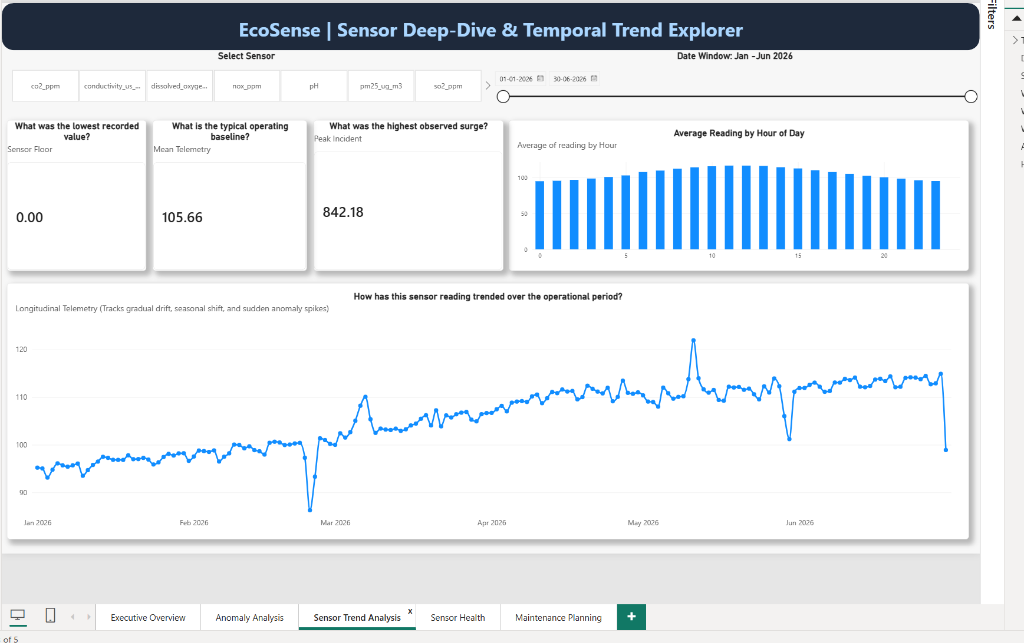

The page's visual inventory and layout, read from the dashboard file:
{"tool":"powerbi","page":{"name":"Sensor Trend Analysis","canvas":[1920,1080],"ordinal":2},"visuals":[{"type":"lineChart","title":"How has this sensor reading trended over the operational period?","fields":{"Category":["SensorReadings.Reading Date.Variation.Date Hierarchy.Year"],"Y":["Avg(SensorReadings.reading)"]},"box":[10.4,550.1,1888.7,503.1],"z":0},{"type":"clusteredColumnChart","title":"Average Reading by Hour of  Day","fields":{"Category":["SensorReadings.Hour"],"Y":["Avg(SensorReadings.reading)"]},"box":[995.8,230.7,903.3,295.9],"z":1000},{"type":"cardVisual","title":"What was the highest observed surge?","fields":{"Data":["Max(SensorReadings.reading)"]},"box":[611.3,230.7,372.8,295.9],"z":2000},{"type":"cardVisual","title":"What was the lowest recorded value?","fields":{"Data":["Min(SensorReadings.reading)"]},"box":[10.4,230.7,273.7,295.9],"z":3000},{"type":"cardVisual","title":"What is the typical operating baseline?","fields":{"Data":["Avg(SensorReadings.reading)"]},"box":[297.2,230.7,302.4,295.9],"z":4000},{"type":"slicer","title":"Select Sensor","fields":{"Values":["SensorReadings.sensor"]},"box":[0,92.6,960.7,102.7],"z":5000},{"type":"slicer","title":"Date Window: Jan -Jun 2026","fields":{"Values":["Date.Date"]},"box":[960.7,92.5,958,127.7],"z":6000},{"type":"group","id":"g1","title":"Title","box":[0,0,1920,92.8],"z":6001},{"type":"shape","box":[0,0,1920,92.8],"z":10000,"group":"g1"},{"type":"textbox","box":[10.1,25.7,1899.8,54.2],"z":10500,"group":"g1"}]}

Visuals, with their boxes on the page's 1920x1080 design canvas (x1, y1, x2, y2). These are canvas units, not pixel positions in the 1024x643 screenshot, which may show the page scaled, cropped or inside an application window:
"How has this sensor reading trended over the operational period?" lineChart: Rect(10, 550, 1899, 1053)
"Average Reading by Hour of  Day" clusteredColumnChart: Rect(996, 231, 1899, 527)
"What was the highest observed surge?" cardVisual: Rect(611, 231, 984, 527)
"What was the lowest recorded value?" cardVisual: Rect(10, 231, 284, 527)
"What is the typical operating baseline?" cardVisual: Rect(297, 231, 600, 527)
"Select Sensor" slicer: Rect(0, 93, 961, 195)
"Date Window: Jan -Jun 2026" slicer: Rect(961, 92, 1919, 220)
"Title" group: Rect(0, 0, 1920, 93)
shape: Rect(0, 0, 1920, 93)
textbox: Rect(10, 26, 1910, 80)
